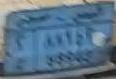city: (6, 30, 37, 74)
number: (35, 23, 110, 71)
text: (7, 2, 113, 30)
